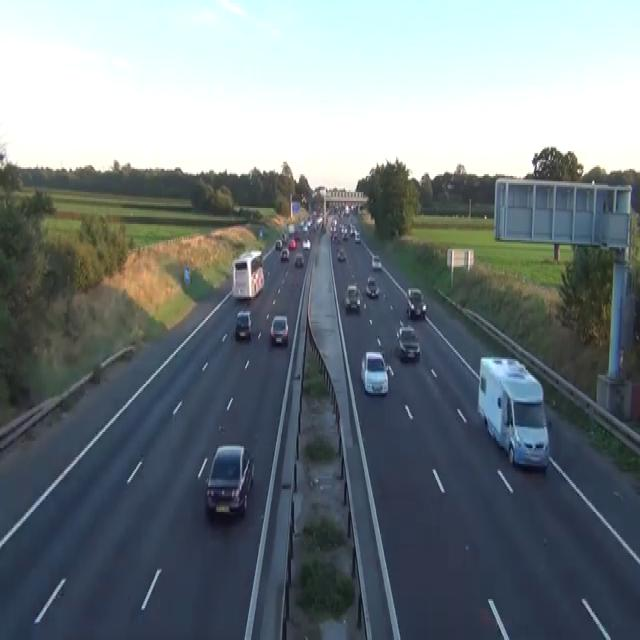Car: (205, 445, 254, 519), (276, 220, 311, 268), (360, 350, 389, 395), (396, 323, 420, 361), (406, 286, 427, 318), (270, 315, 288, 345), (235, 310, 252, 340), (343, 283, 361, 311), (365, 275, 379, 297), (91, 363, 100, 382), (371, 254, 381, 268), (336, 247, 346, 261), (183, 265, 190, 284), (280, 247, 289, 261), (294, 252, 303, 266), (302, 236, 310, 249), (288, 238, 296, 249), (331, 231, 339, 242), (354, 229, 360, 242), (349, 222, 355, 235), (288, 222, 294, 235), (281, 231, 287, 244), (275, 238, 282, 249), (446, 182, 455, 190), (233, 204, 241, 213), (342, 229, 348, 240), (294, 231, 300, 240), (259, 228, 262, 236)
Truck: (477, 356, 549, 471), (231, 249, 264, 299)
